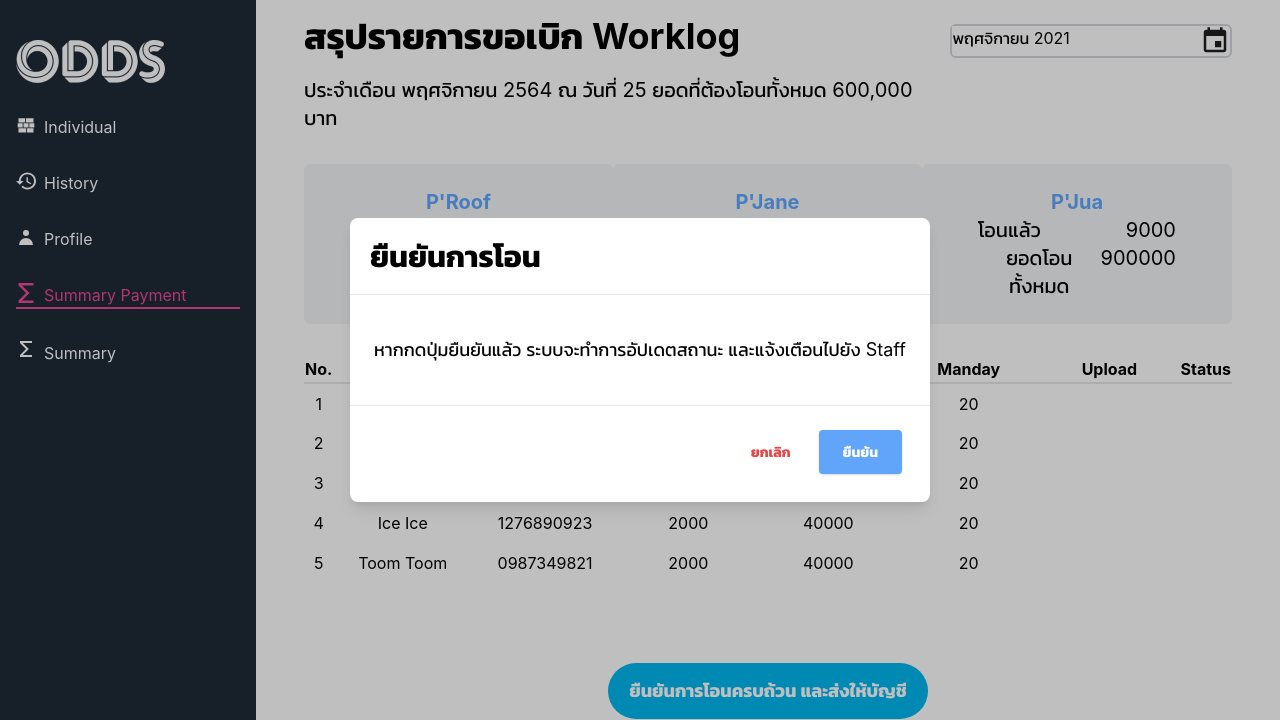
it: When click Confirm transfer button should display confirm popup › should hide confirm popup when click ยกเลิก
The width and height of the screenshot is (1280, 720).
Step 1. Click the button "ยกเลิก" → [771, 452], box 727,434 -> 815,470
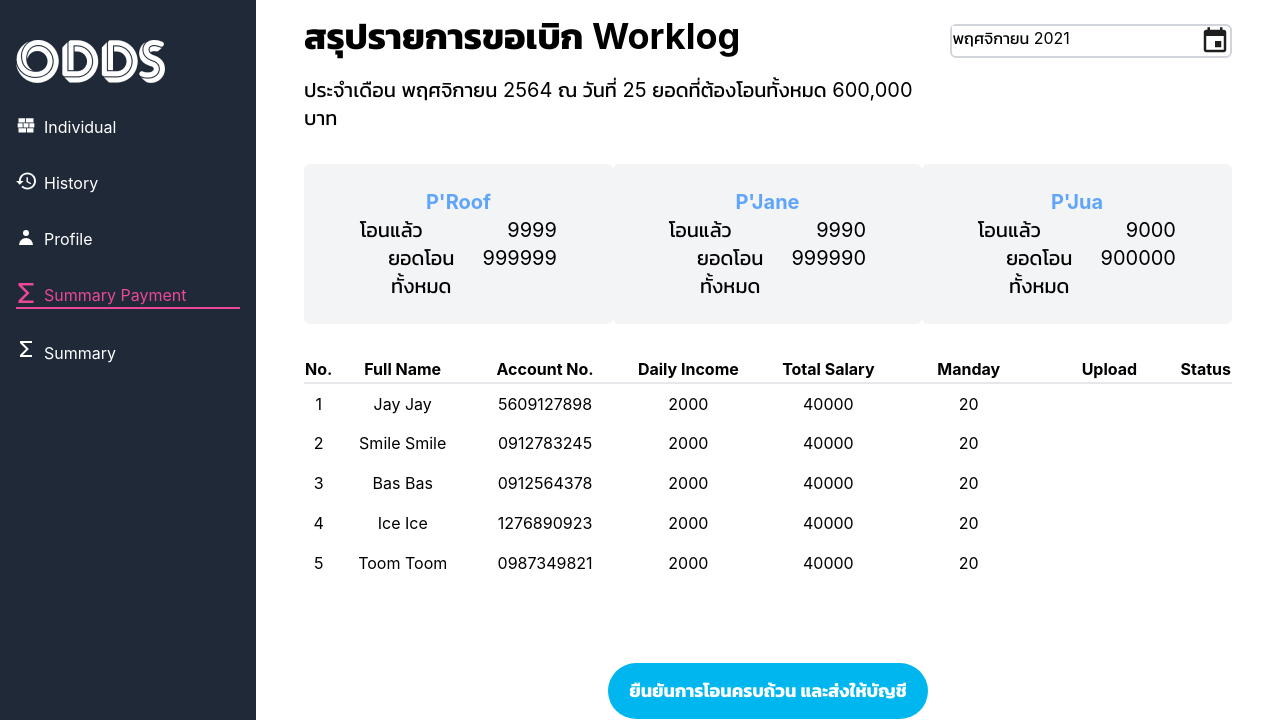
Check: the element with test id "confirmTransferPopup" is gone
